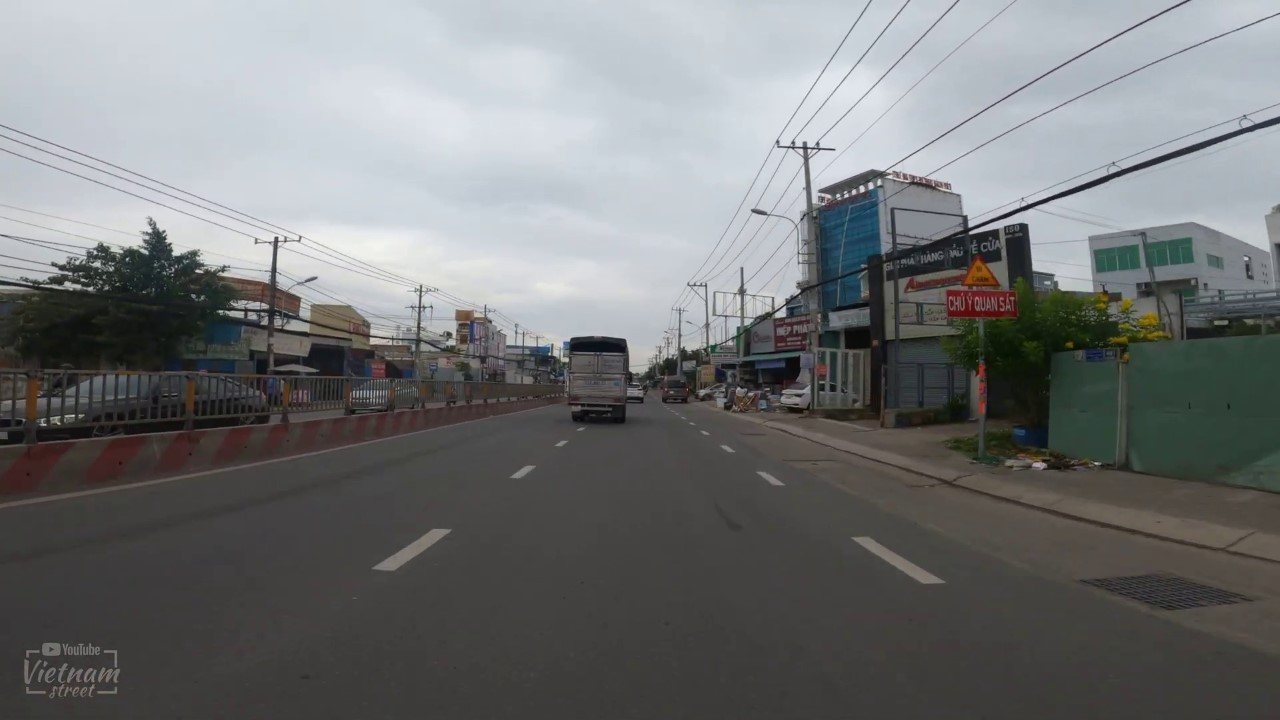di_cham: (960, 253, 1001, 287)
